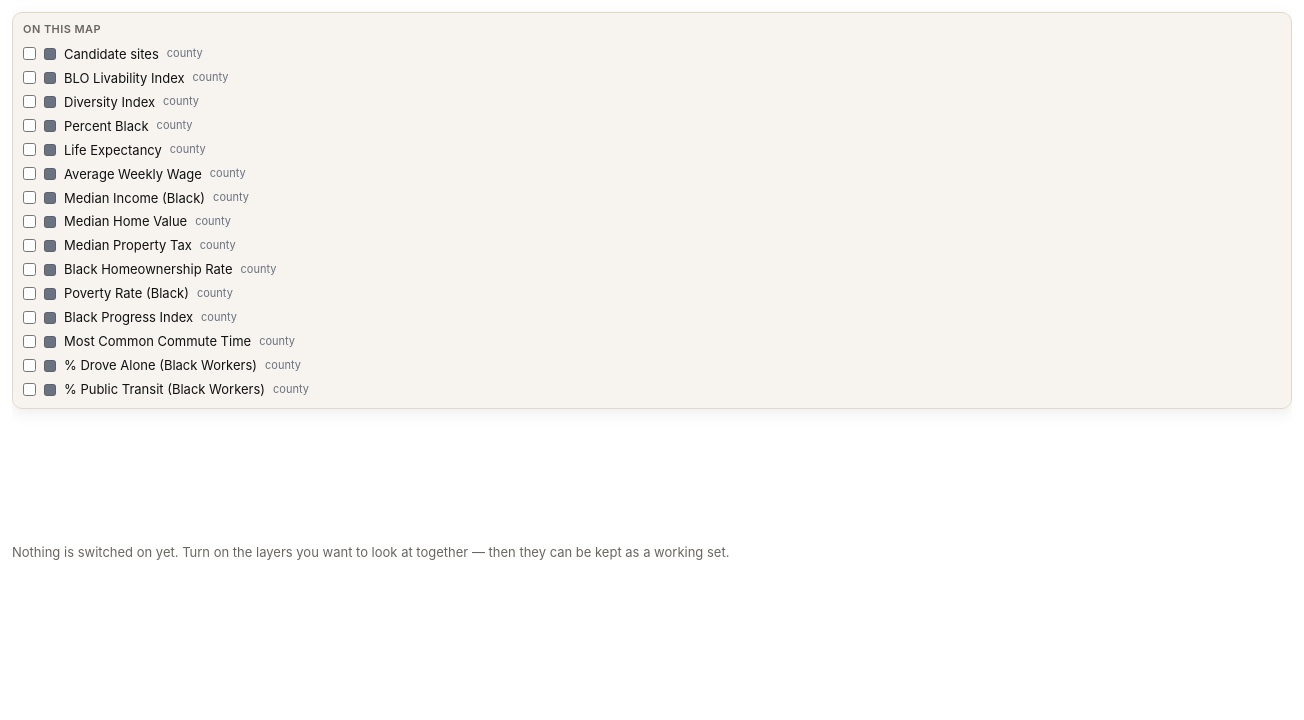
Test case: exploring every layer › turns what is switched on into a working set
The width and height of the screenshot is (1304, 720).
Click the checkbox labelled "Candidate sites county": {"x": 30, "y": 54} [23,48,36,60]
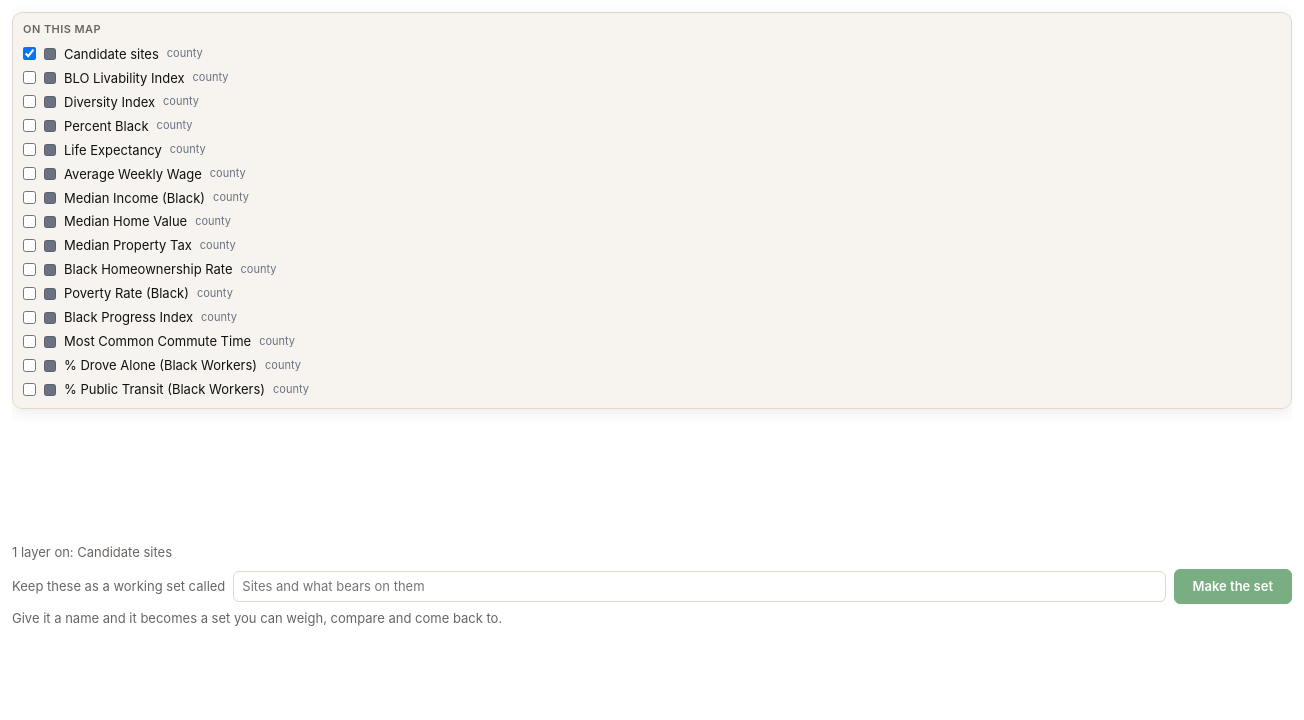
In the field with test id "explore-name": {"x": 699, "y": 586} [233,571,1166,602], type "Sites and burden"
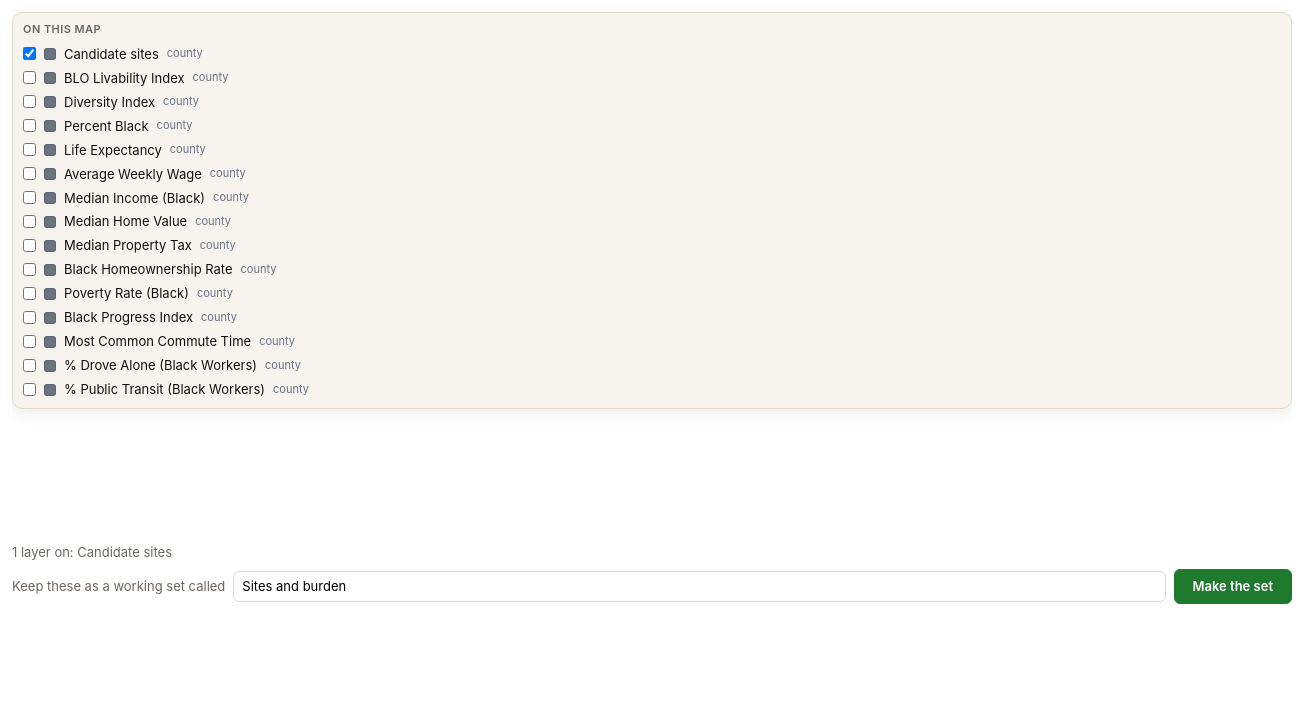
Submit the form with test id "explore-save", box [12,542,1292,604]
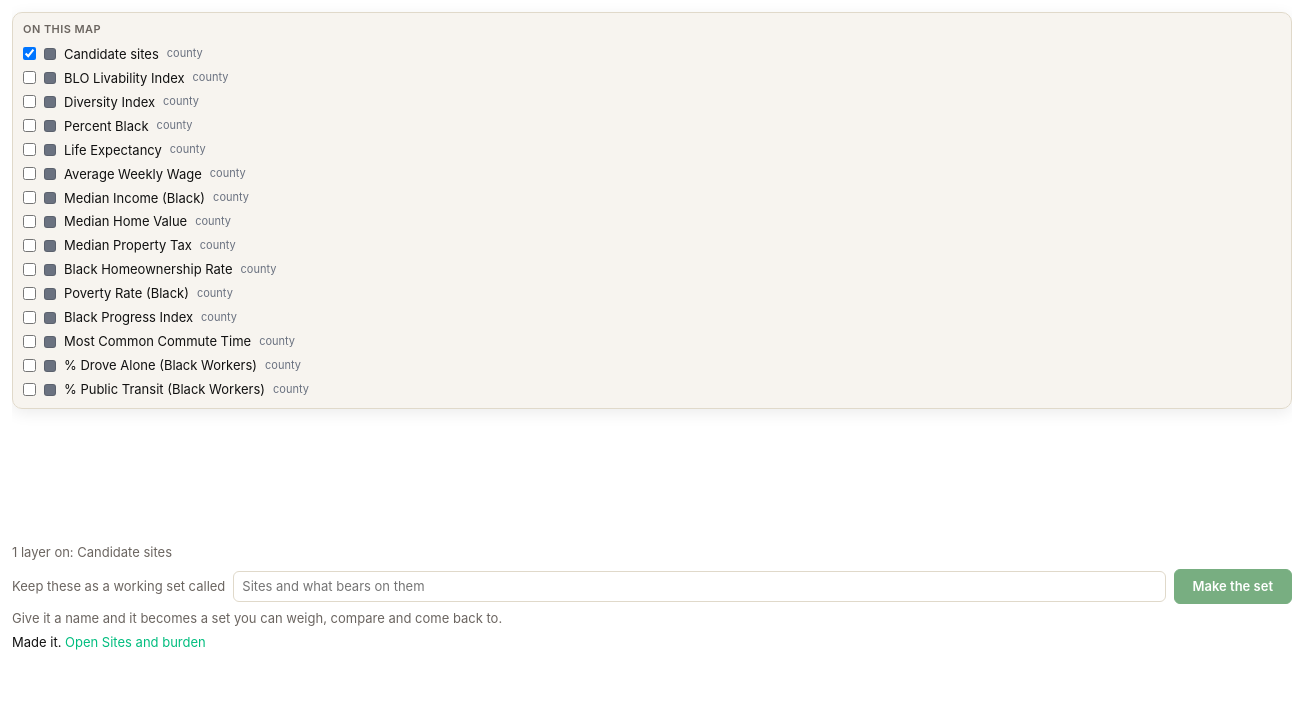
Expected: the element with test id "explore-made" shows "Sites and burden", [65,634,206,650]
